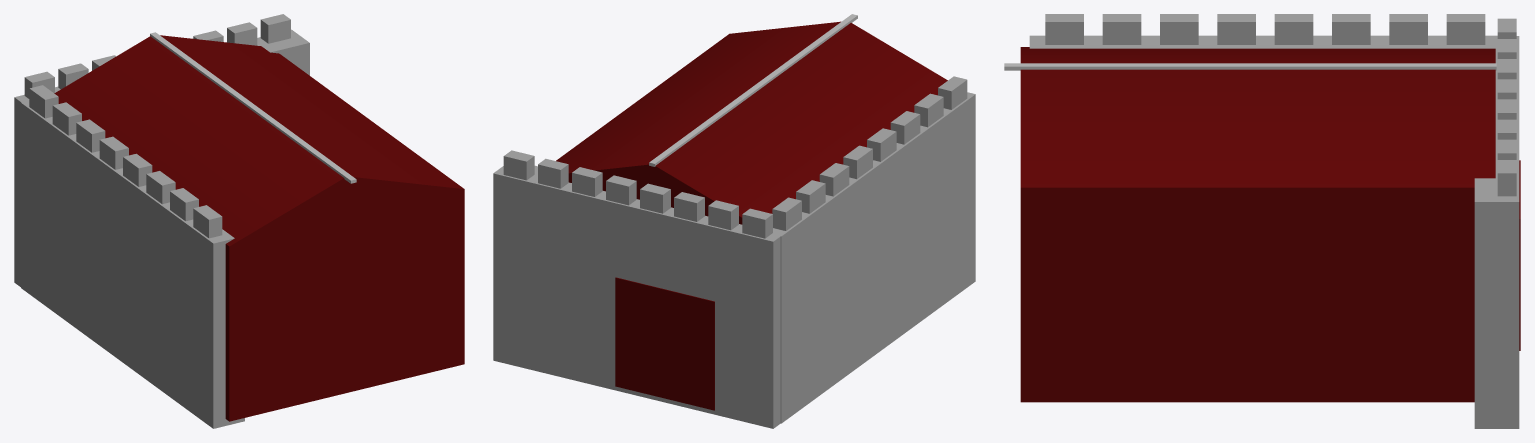
The model's file is Fort basecamp.fbx.
The picture shows the model from 3 angles, left to right: view 1: azimuth 30°, elevation 25°; view 2: azimuth 150°, elevation 25°; view 3: azimuth 270°, elevation 25°; orthographic projection. The views are drawn at different scales.
Visible parts, largest first — view 1: castle_Box258, castle_Box238, castle_Box248, castle_Box257, castle_Box246, castle_Box250, castle_Box239, castle_Box240, castle_Box242, castle_Box241, castle_Box244, castle_Box243 (+4 smaller); view 2: castle_Box248, castle_Box258, castle_Box238, castle_Box247, castle_Box257, castle_Box250, castle_Box255, castle_Box249, castle_Box240, castle_Box253, castle_Box254, castle_Box256 (+9 smaller); view 3: castle_Box258, castle_Box248, castle_Box238, castle_Box257, castle_Box240, castle_Box242, castle_Box245, castle_Box239, castle_Box241, castle_Box243, castle_Box244, castle_Box246 (+1 smaller).
Part boxes in pixels (left/top/right/bottom): castle_Box258: left=54, top=35, right=464, bottom=421; castle_Box238: left=21, top=101, right=244, bottom=428; castle_Box248: left=14, top=29, right=309, bottom=286; castle_Box257: left=150, top=32, right=356, bottom=183; castle_Box246: left=193, top=205, right=222, bottom=238; castle_Box250: left=260, top=14, right=290, bottom=43; castle_Box239: left=52, top=102, right=81, bottom=135; castle_Box240: left=29, top=85, right=58, bottom=118; castle_Box242: left=99, top=136, right=128, bottom=169; castle_Box241: left=76, top=119, right=105, bottom=152; castle_Box244: left=146, top=171, right=175, bottom=204; castle_Box243: left=123, top=153, right=152, bottom=186; castle_Box248: left=493, top=165, right=787, bottom=428; castle_Box258: left=556, top=21, right=947, bottom=224; castle_Box238: left=772, top=92, right=975, bottom=423; castle_Box247: left=615, top=277, right=714, bottom=410; castle_Box257: left=649, top=14, right=857, bottom=166; castle_Box250: left=503, top=150, right=534, bottom=180; castle_Box255: left=708, top=200, right=738, bottom=230; castle_Box249: left=538, top=158, right=568, bottom=188; castle_Box240: left=772, top=197, right=801, bottom=230; castle_Box253: left=640, top=183, right=670, bottom=213; castle_Box254: left=674, top=192, right=704, bottom=221; castle_Box256: left=742, top=208, right=772, bottom=238; castle_Box258: left=1020, top=47, right=1495, bottom=402; castle_Box248: left=1474, top=36, right=1519, bottom=428; castle_Box238: left=1029, top=35, right=1497, bottom=54; castle_Box257: left=1004, top=63, right=1496, bottom=70; castle_Box240: left=1446, top=14, right=1485, bottom=44; castle_Box242: left=1274, top=14, right=1313, bottom=44; castle_Box245: left=1102, top=14, right=1141, bottom=44; castle_Box239: left=1389, top=14, right=1427, bottom=44; castle_Box241: left=1332, top=14, right=1370, bottom=44; castle_Box243: left=1217, top=14, right=1255, bottom=44; castle_Box244: left=1160, top=14, right=1198, bottom=44; castle_Box246: left=1045, top=14, right=1083, bottom=44.
Size of the model in its own units: 2.78 by 2.15 by 3.65.
